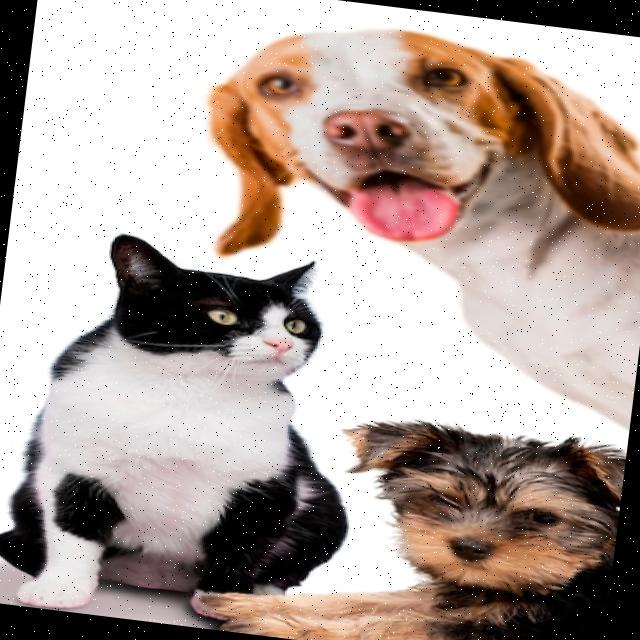Dog: (171, 3, 640, 437), (185, 392, 627, 640)
